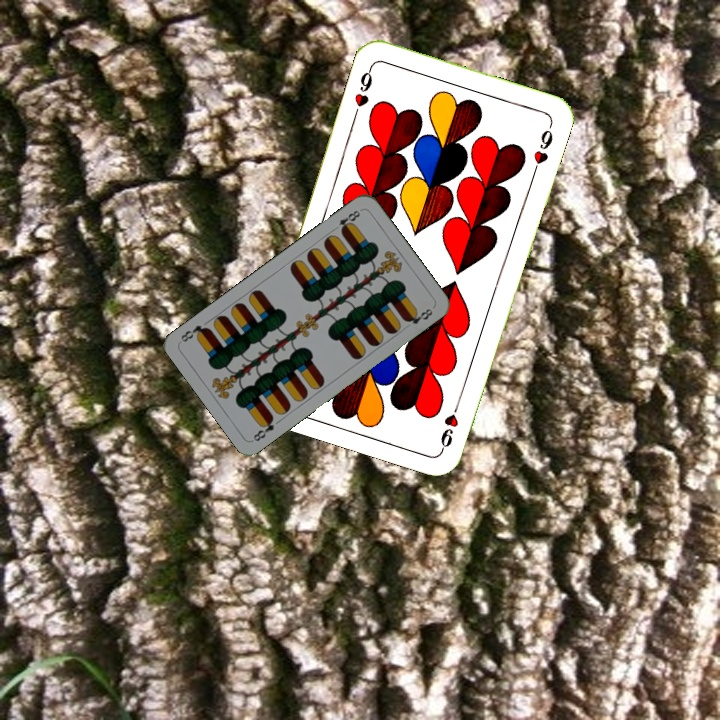E8: (328, 206, 364, 235), (249, 413, 277, 444)
H9: (436, 395, 464, 452), (349, 62, 375, 120)
